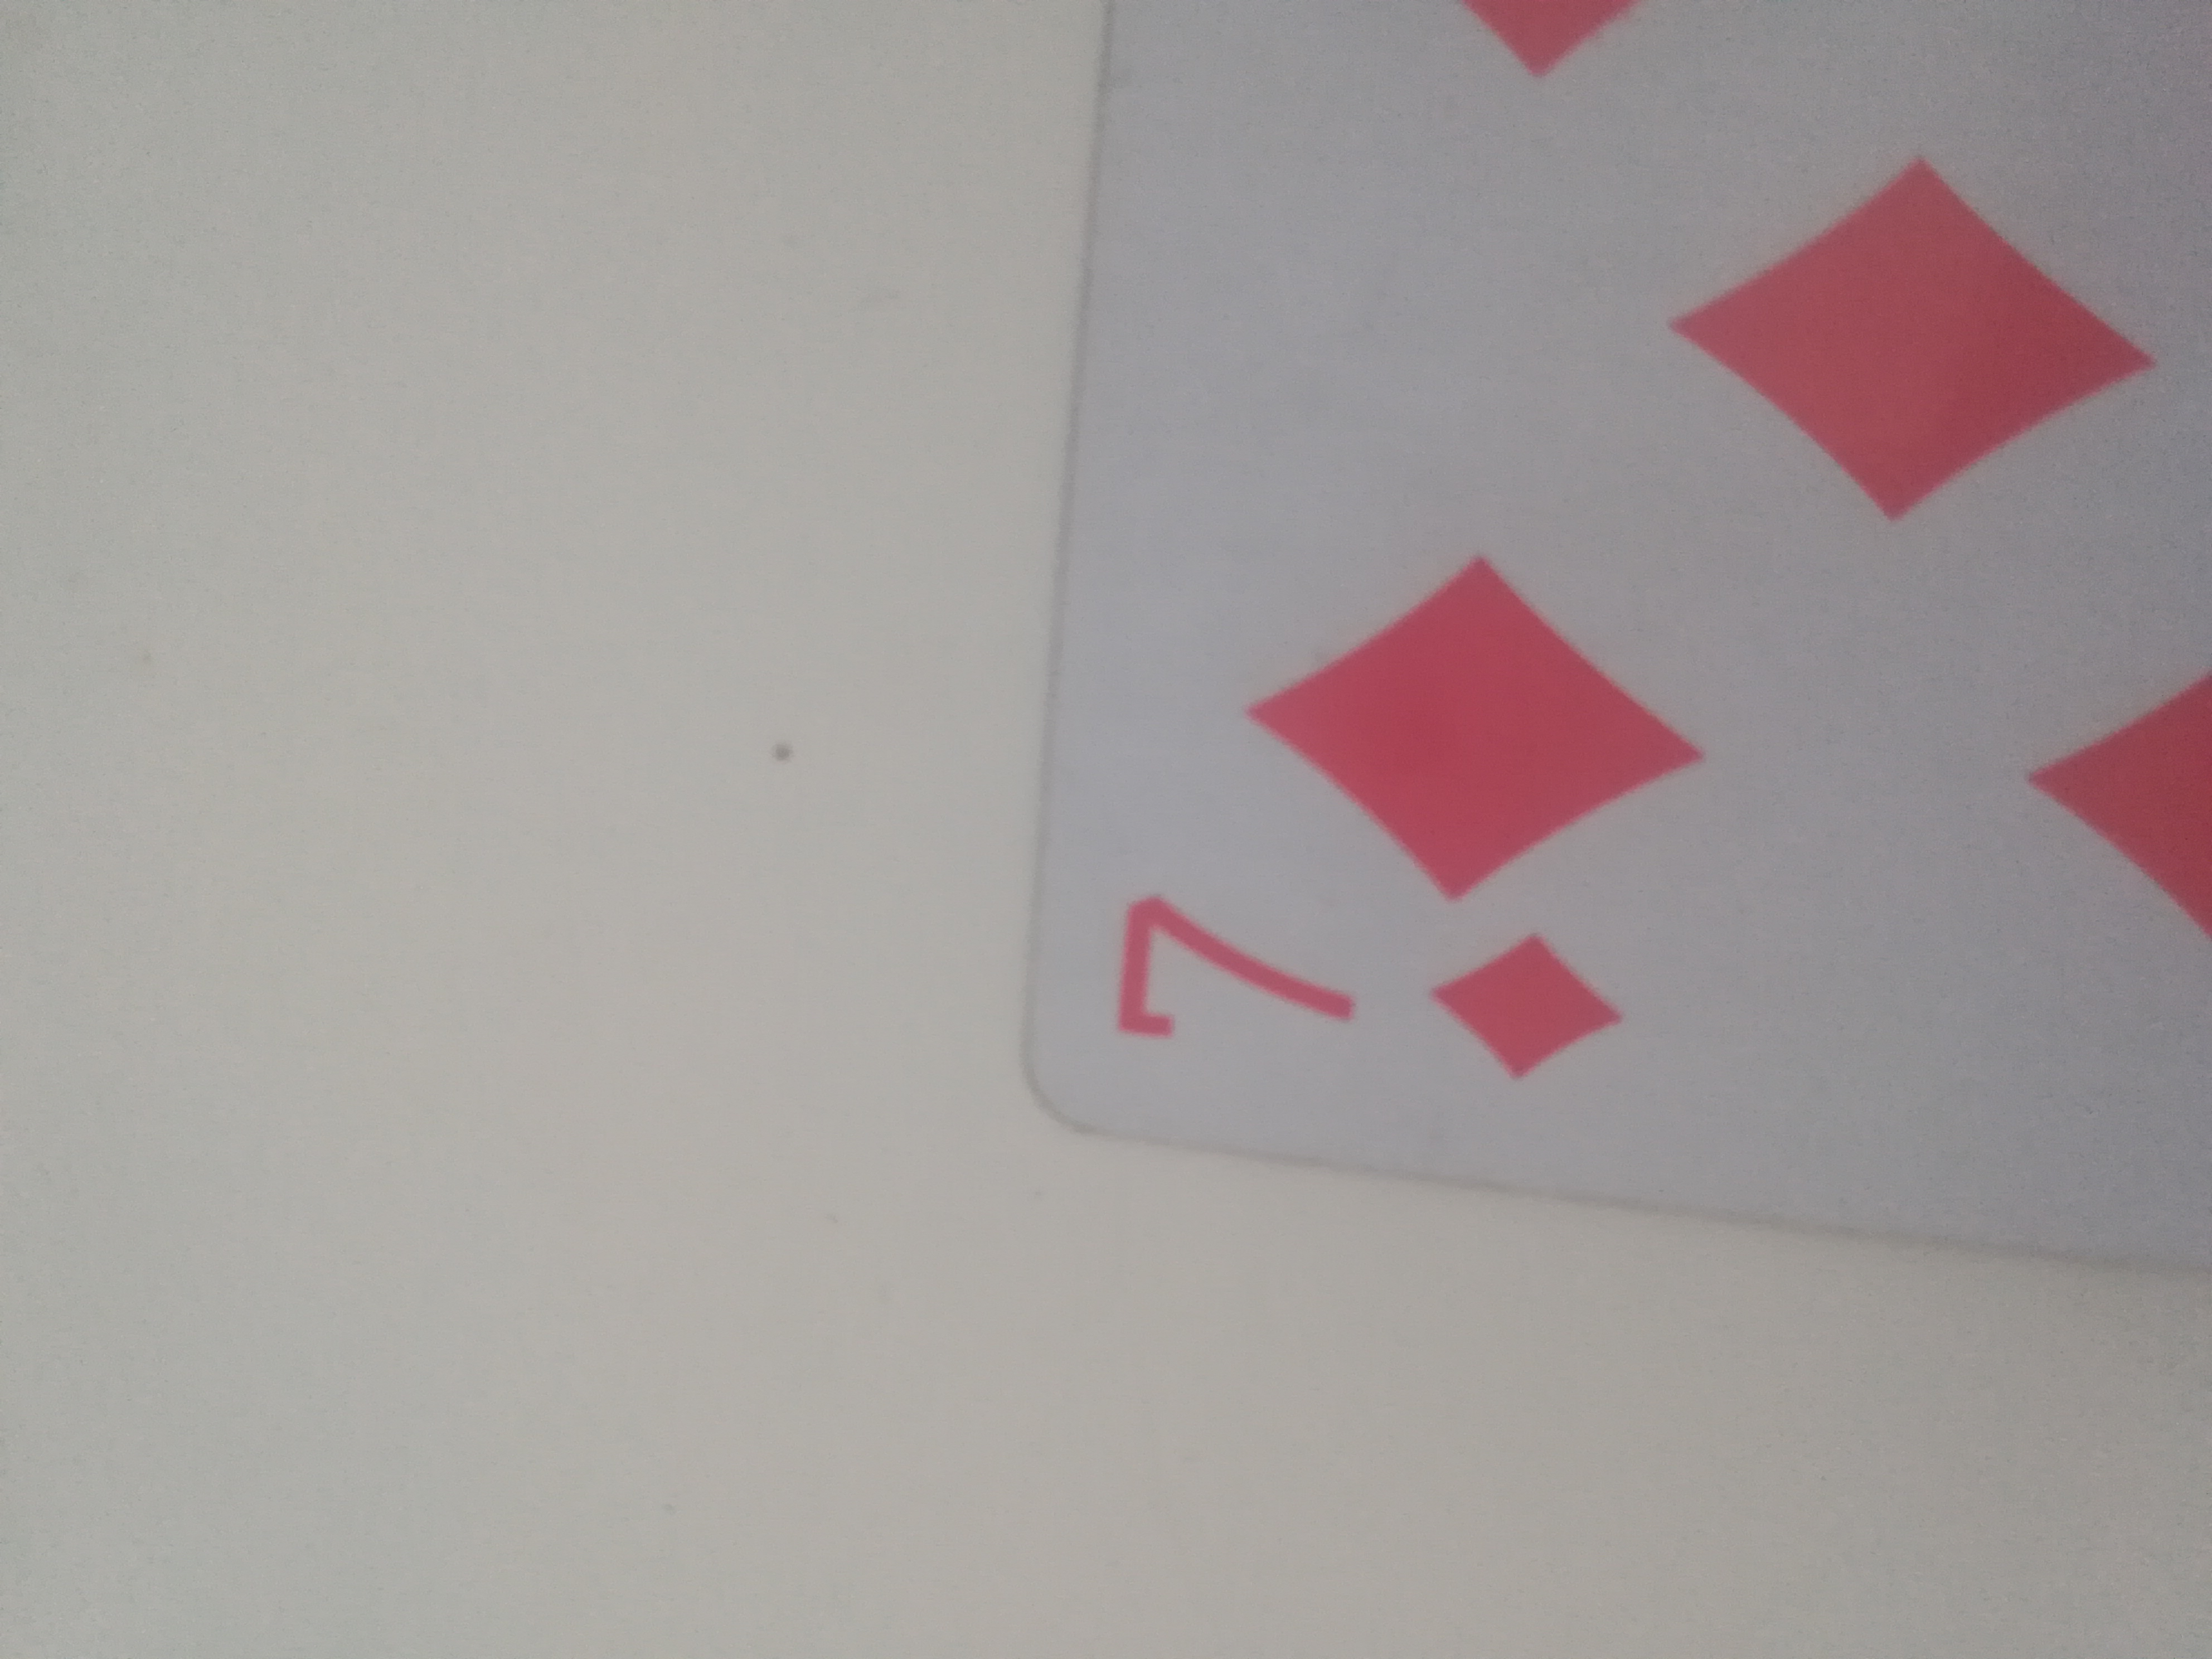7D: (1038, 7, 2212, 1270)
